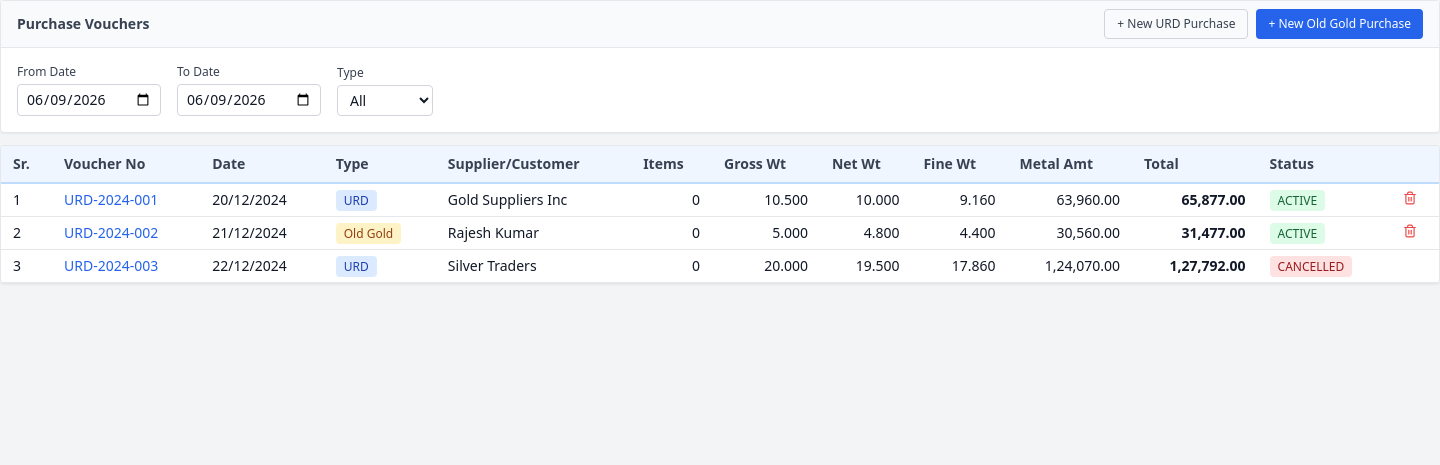
PurchaseURD › Navigation to Form › switches to form view when New URD Purchase is clicked
Click the button "+ New URD Purchase". click: (1176, 24)
box: 1104,9 -> 1248,39
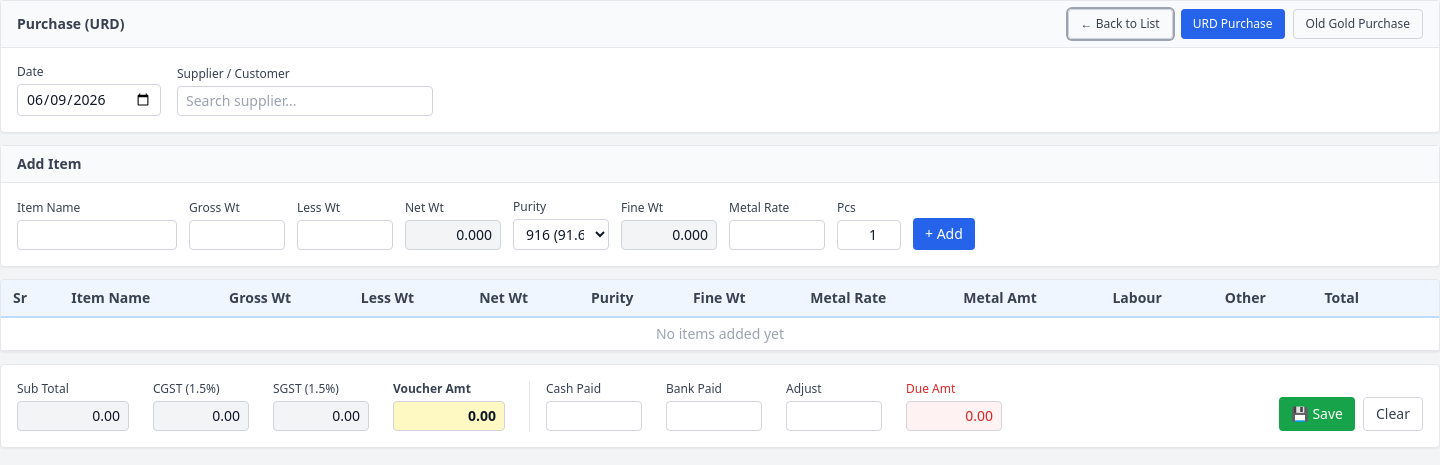
Expected: the text "Purchase (URD)" is shown, 17,14 -> 124,34
